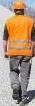boots: (18, 96, 29, 106), (11, 89, 19, 101)
hard-hat: (10, 0, 24, 9)
vest: (1, 15, 32, 54)
